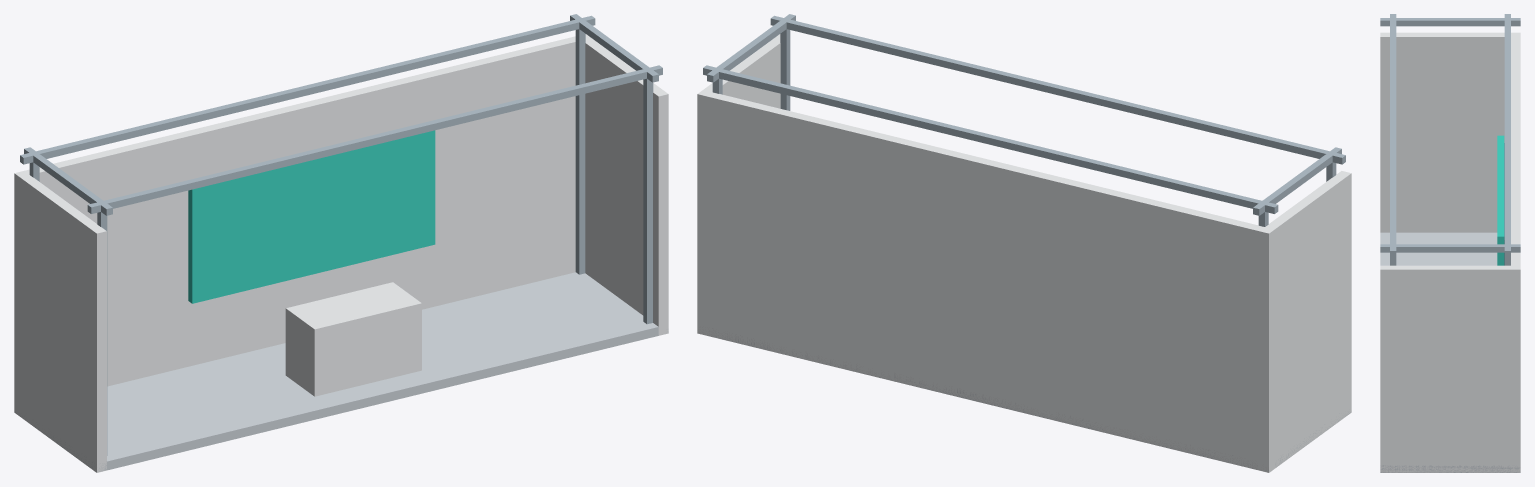
The picture shows the model from 3 angles, left to right: view 1: azimuth 30°, elevation 25°; view 2: azimuth 150°, elevation 25°; view 3: azimuth 270°, elevation 25°; orthographic projection. The views are drawn at different scales.
Parts seen in each view (by area): view 1: Exhibition Booth Concept; view 2: Exhibition Booth Concept; view 3: Exhibition Booth Concept.
Part boxes in pixels (x1,y1,x2,y2): Exhibition Booth Concept: (14, 14, 668, 472); Exhibition Booth Concept: (697, 14, 1351, 472); Exhibition Booth Concept: (1380, 14, 1520, 472).
Bounding box in the file's own units: 8 × 3.49 × 2.
